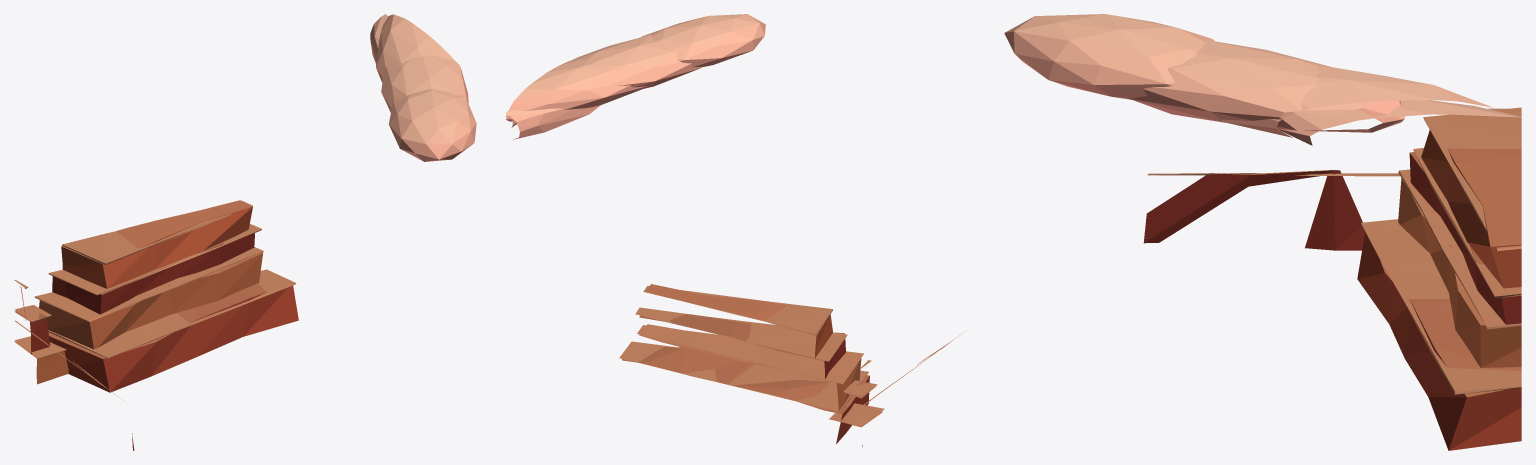
3 renders of one model, left to right at view 1: azimuth 30°, elevation 25°; view 2: azimuth 150°, elevation 25°; view 3: azimuth 270°, elevation 25°, orthographic. The views are drawn at different scales.
Parts seen in each view (by area): view 1: scene.6.5 (×2); view 2: scene.6.5 (×2); view 3: scene.6.5 (×2).
Part boxes in pixels (x1,y1,x2,y2): scene.6.5 (×2): [14, 14, 476, 450]; scene.6.5 (×2): [505, 14, 963, 447]; scene.6.5 (×2): [1004, 14, 1521, 450].
Bounding box in the file's own units: 62.5 × 45.45 × 47.43.
